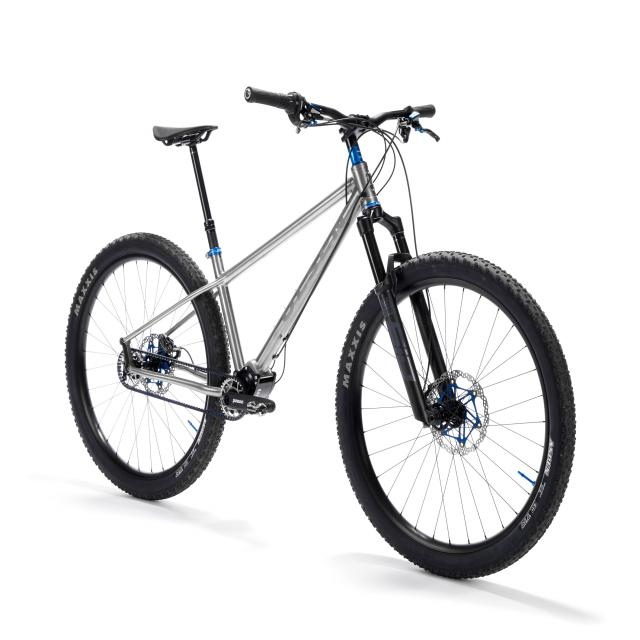bicycle: (57, 70, 587, 596)
